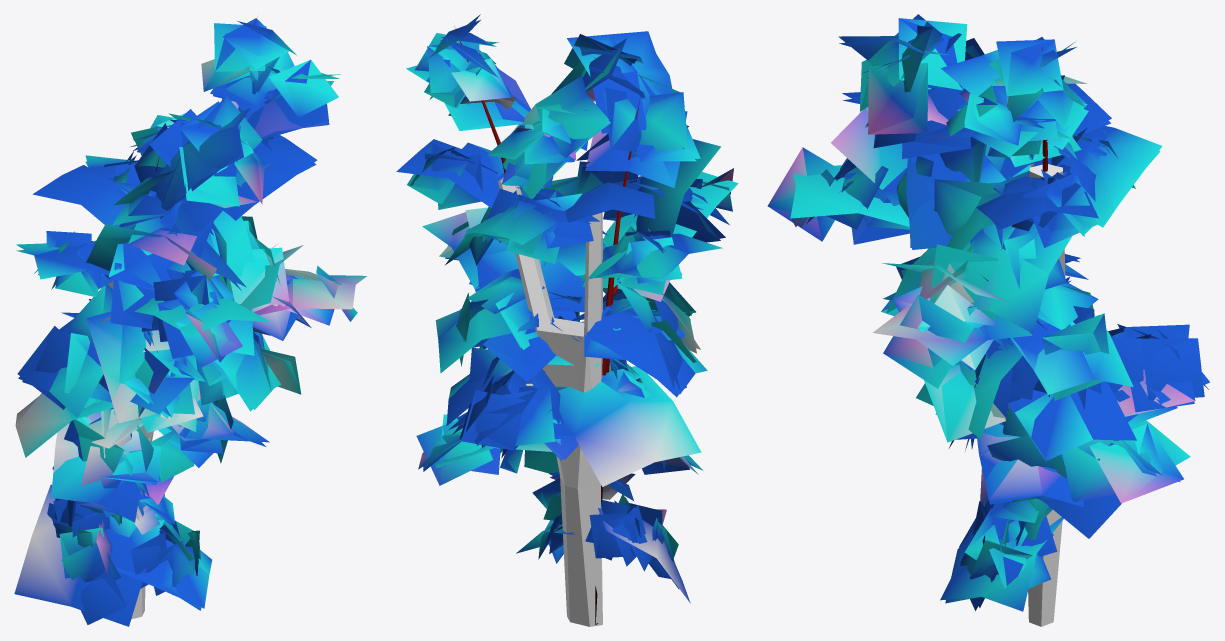
File: eucalyptus_double.dae
The picture shows the model from 3 angles, left to right: view 1: azimuth 30°, elevation 25°; view 2: azimuth 150°, elevation 25°; view 3: azimuth 270°, elevation 25°; orthographic projection. The views are drawn at different scales.
Parts seen in each view (by area): view 1: eucalyptus_double_a600, eucalyptus_double_a300; view 2: eucalyptus_double_a600, eucalyptus_double_a300, Colmesh-1; view 3: eucalyptus_double_a600, eucalyptus_double_a300, Colmesh-1.
Part boxes in pixels (box(x1,y1,x2,y2)): eucalyptus_double_a600: box(14, 18, 366, 626); eucalyptus_double_a300: box(16, 23, 357, 608); eucalyptus_double_a600: box(396, 20, 738, 603); eucalyptus_double_a300: box(407, 14, 733, 624); Colmesh-1: box(498, 177, 602, 626); eucalyptus_double_a600: box(767, 14, 1209, 611); eucalyptus_double_a300: box(768, 14, 1209, 610); Colmesh-1: box(1028, 163, 1065, 626).
Bounding box in the file's own units: 8.54 × 9.12 × 14.74.
